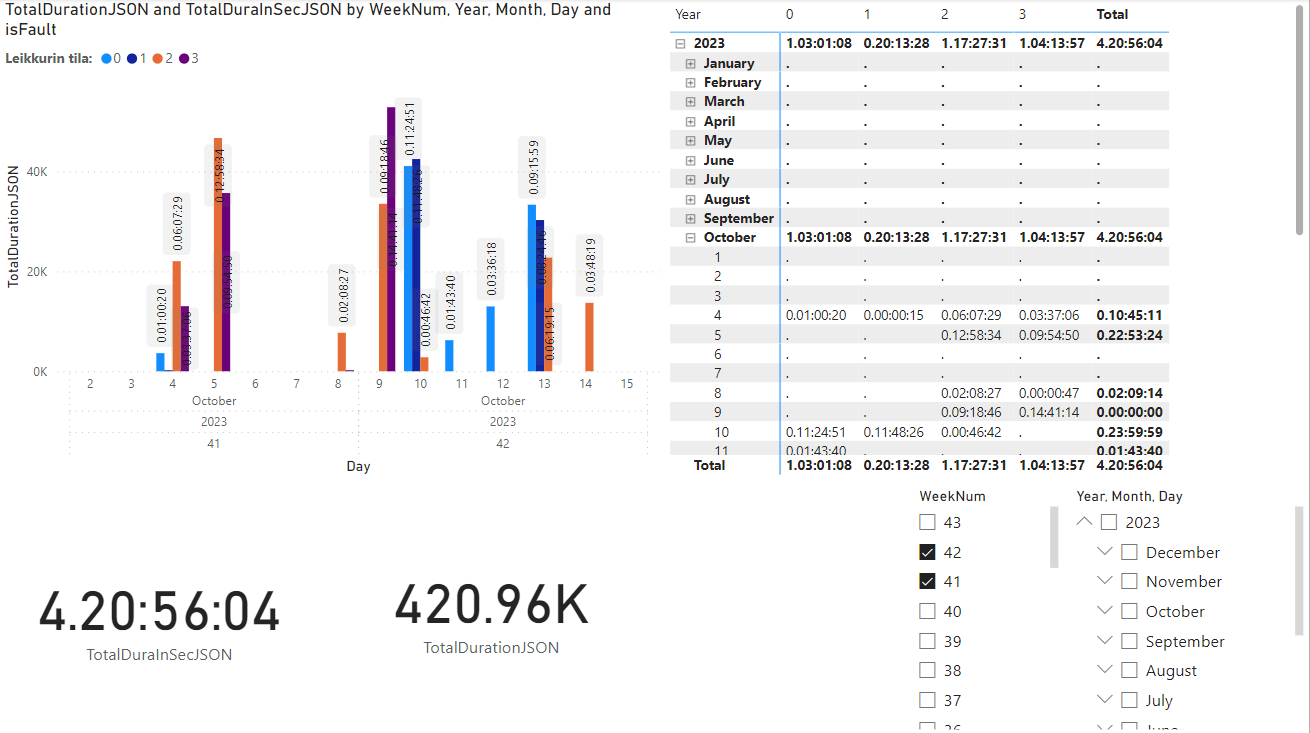

The page's visual inventory and layout, read from the dashboard file:
{"tool":"powerbi","page":{"name":"Aikalaskenta esimerkki","canvas":[1280,720],"ordinal":0},"visuals":[{"type":"clusteredColumnChart","fields":{"Category":["DateTable.WeekNum","DateTable.DateColumn.Variation.Date Hierarchy.Year","DateTable.DateColumn.Variation.Date Hierarchy.Month","DateTable.DateColumn.Variation.Date Hierarchy.Day"],"Series":["jsonBackupMachine1.isFault"],"Y":["jsonBackupMachine1.TotalDurationJSON"]},"box":[0,0,650.3,470.3],"z":0},{"type":"card","fields":{"Values":["jsonBackupMachine1.TotalDuraInSecJSON"]},"box":[0,484,311.9,235.7],"z":1},{"type":"pivotTable","fields":{"Rows":["DateTable.DateColumn.Variation.Date Hierarchy.Year","DateTable.DateColumn.Variation.Date Hierarchy.Month","DateTable.DateColumn.Variation.Date Hierarchy.Day"],"Columns":["jsonBackupMachine1.isFault"],"Values":["jsonBackupMachine1.TotalDuraInSecJSON"]},"box":[650.3,0,629.7,470.3],"z":2},{"type":"card","fields":{"Values":["jsonBackupMachine1.TotalDurationJSON"]},"box":[320.7,470.3,319.8,249.4],"z":3},{"type":"slicer","fields":{"Values":["DateTable.DateColumn.Variation.Date Hierarchy.Year","DateTable.DateColumn.Variation.Date Hierarchy.Month","DateTable.DateColumn.Variation.Date Hierarchy.Day"]},"box":[1039.2,473.6,240.2,246.4],"z":4},{"type":"slicer","fields":{"Values":["DateTable.WeekNum"]},"box":[885.6,473.6,153.6,246.4],"z":5}]}

Visuals, with their boxes in screenshot pixels (x1, y1, x2, y2), scaled from the page's 1280x720 canvas onto the 1310x733 screenshot:
clusteredColumnChart - DateTable.WeekNum x DateTable.DateColumn.Variation.Date Hierarchy.Year: bbox=(0, 0, 666, 479)
card - jsonBackupMachine1.TotalDuraInSecJSON: bbox=(0, 493, 319, 732)
pivotTable - DateTable.DateColumn.Variation.Date Hierarchy.Year x DateTable.DateColumn.Variation.Date Hierarchy.Month: bbox=(666, 0, 1309, 479)
card - jsonBackupMachine1.TotalDurationJSON: bbox=(328, 479, 656, 732)
slicer - DateTable.DateColumn.Variation.Date Hierarchy.Year x DateTable.DateColumn.Variation.Date Hierarchy.Month: bbox=(1064, 482, 1309, 732)
slicer - DateTable.WeekNum: bbox=(906, 482, 1064, 732)
